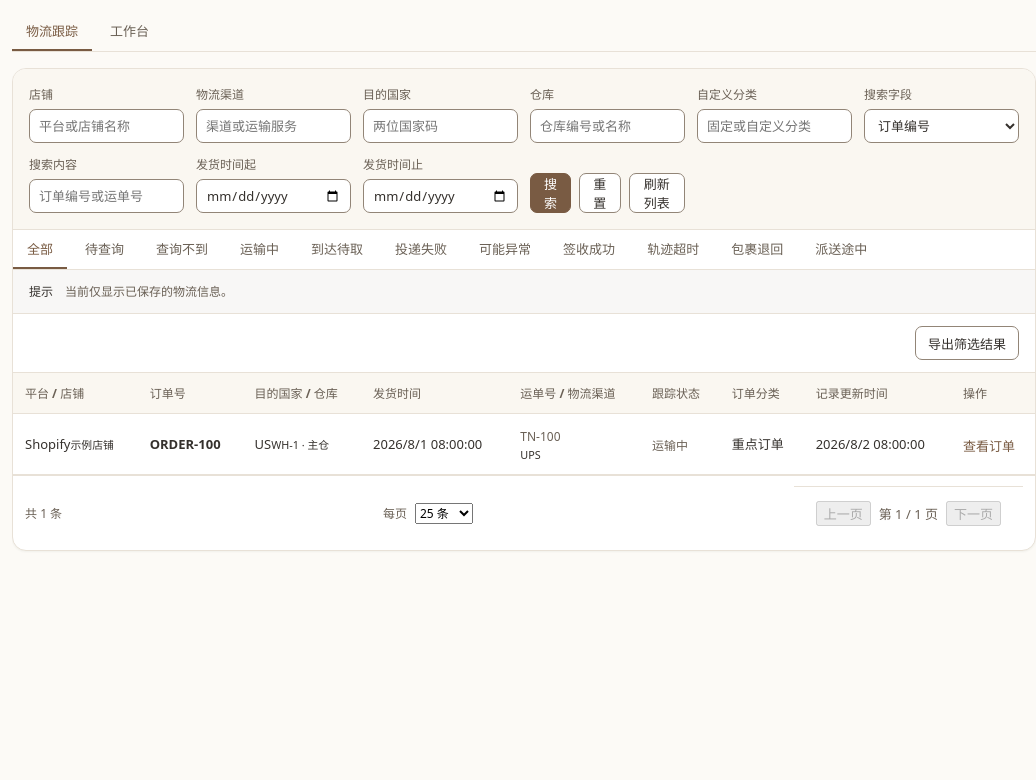
Scenario: logistics tracking page › explains how to recover when a tracking export is too large
This screenshot has width=1036, height=780.
Click the button "导出筛选结果": [967, 343] box [915, 326, 1019, 360]
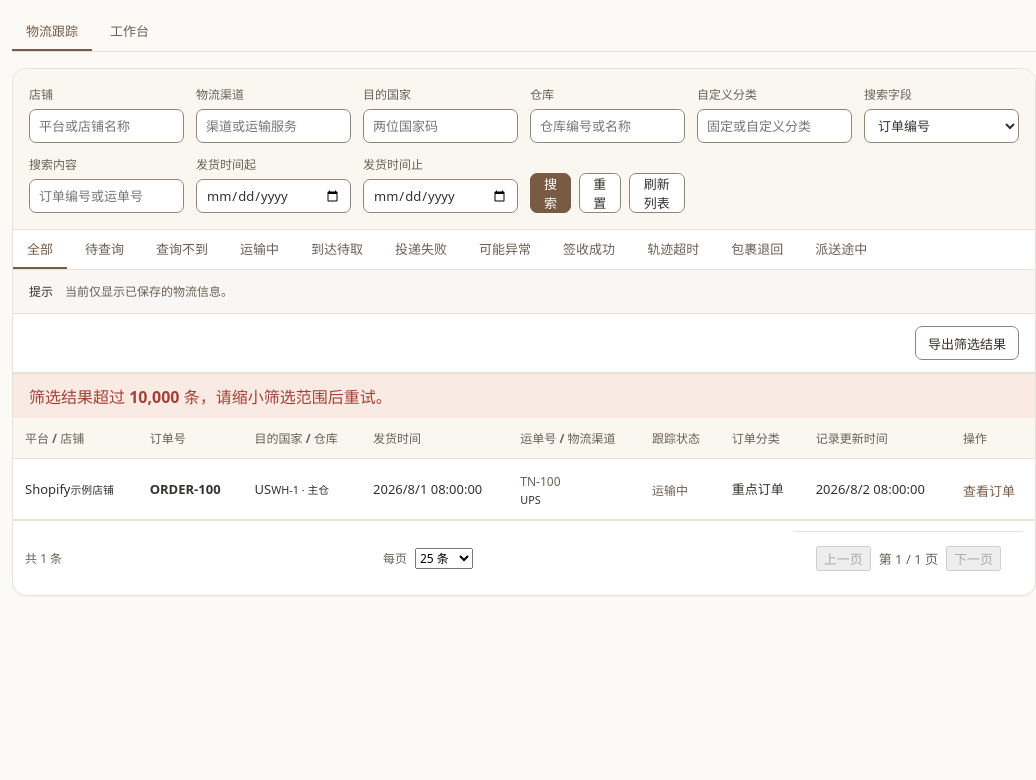
Expected: the message shows "请缩小筛选范围后重试", [29, 386, 392, 408]
